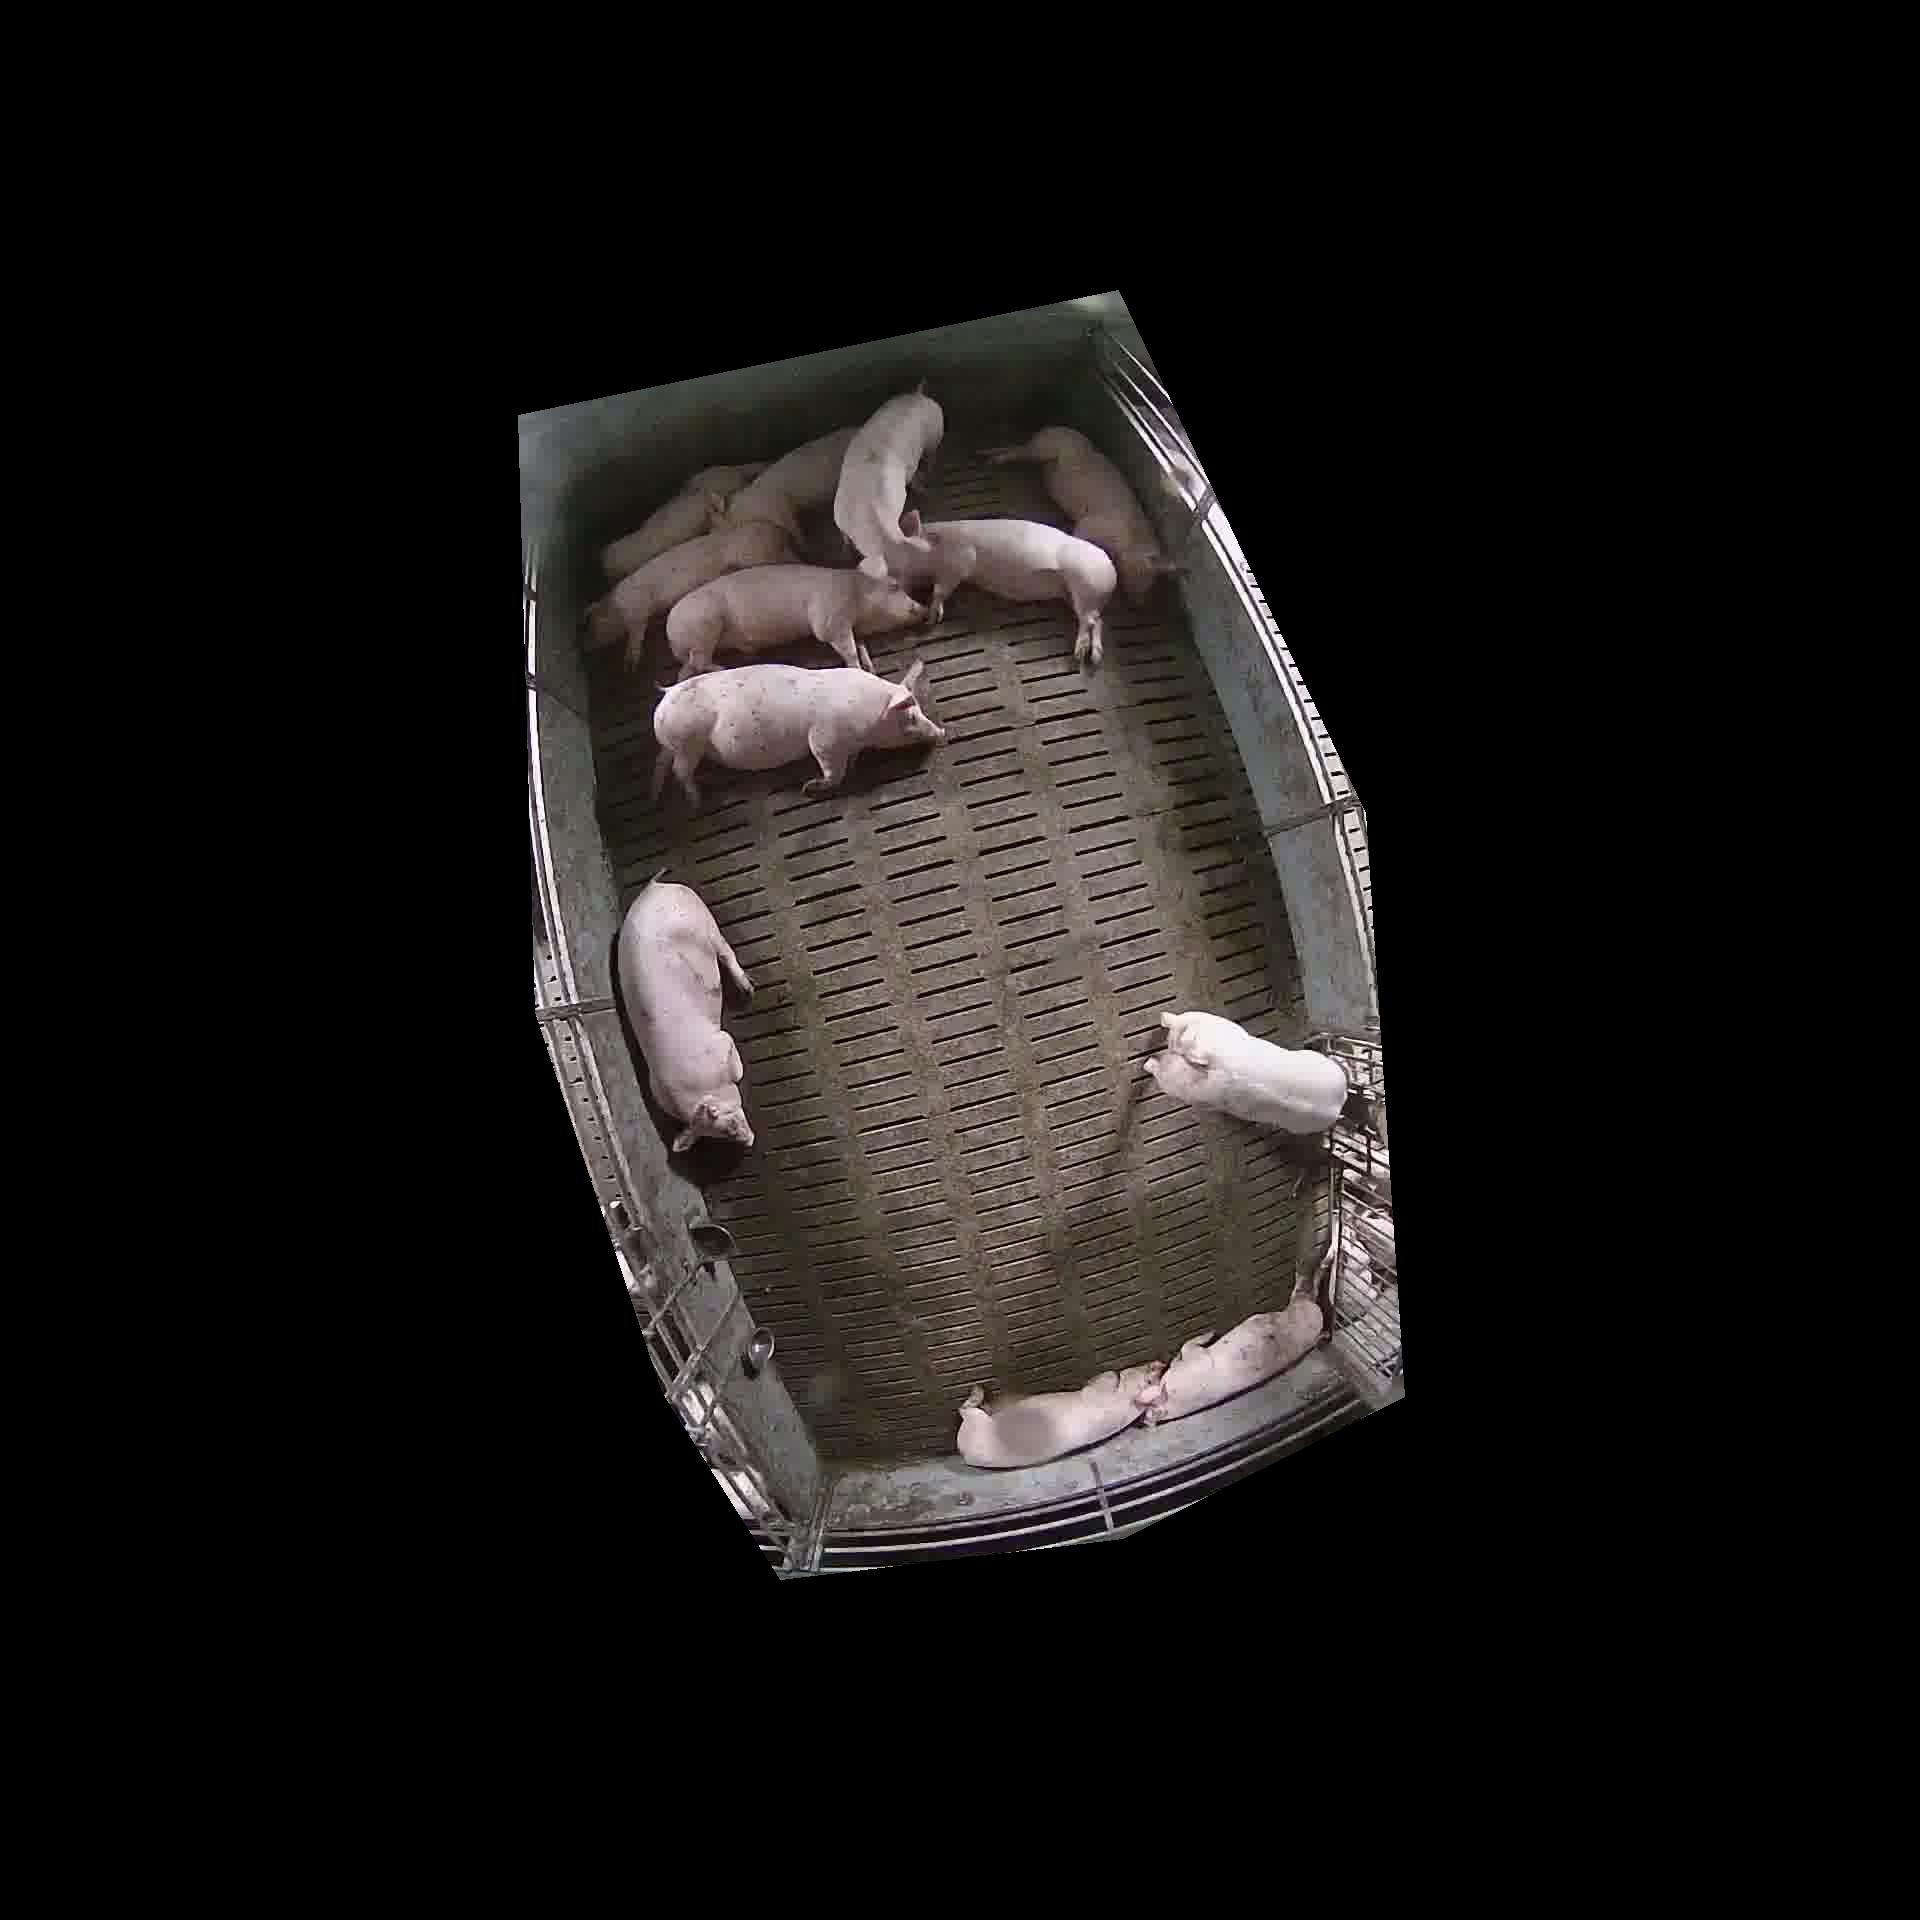pig: (652, 661, 944, 804), (617, 877, 753, 1152), (985, 425, 1173, 596), (587, 522, 796, 666), (666, 564, 927, 677), (921, 520, 1116, 663), (1145, 1011, 1347, 1132), (1139, 1294, 1322, 1422), (956, 1363, 1162, 1466), (833, 387, 942, 580), (601, 462, 765, 580), (721, 427, 853, 536)
